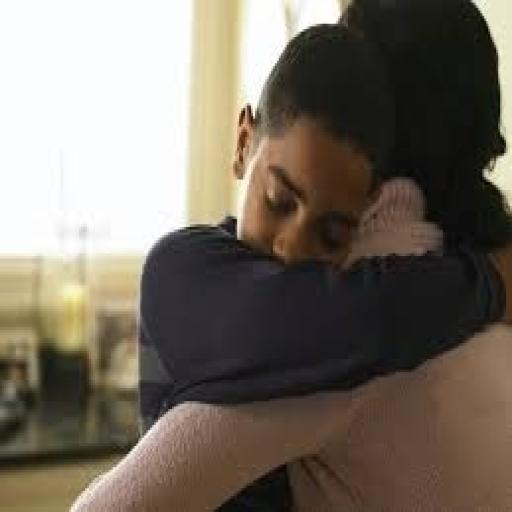hugging: (61, 0, 509, 509)
